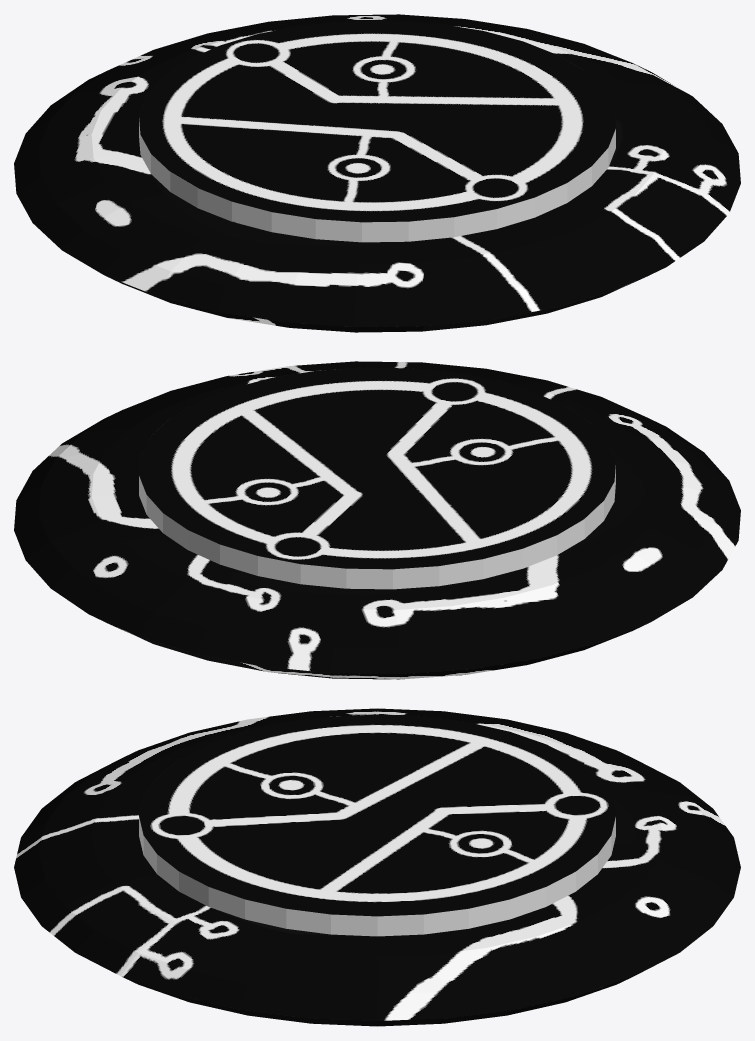
Rendered from Spawner.fbx.
3 views of the same model, one above another, from view 1: azimuth 30°, elevation 25°; view 2: azimuth 150°, elevation 25°; view 3: azimuth 270°, elevation 25° (orthographic).
Parts seen in each view (by area): view 1: Cylinder; view 2: Cylinder; view 3: Cylinder.
Boxes of the visible parts, left/top/right/bottom form: Cylinder: left=14, top=14, right=740, bottom=332; Cylinder: left=14, top=361, right=740, bottom=679; Cylinder: left=14, top=708, right=740, bottom=1026.
Size of the model in its own units: 491 by 62.46 by 491.
